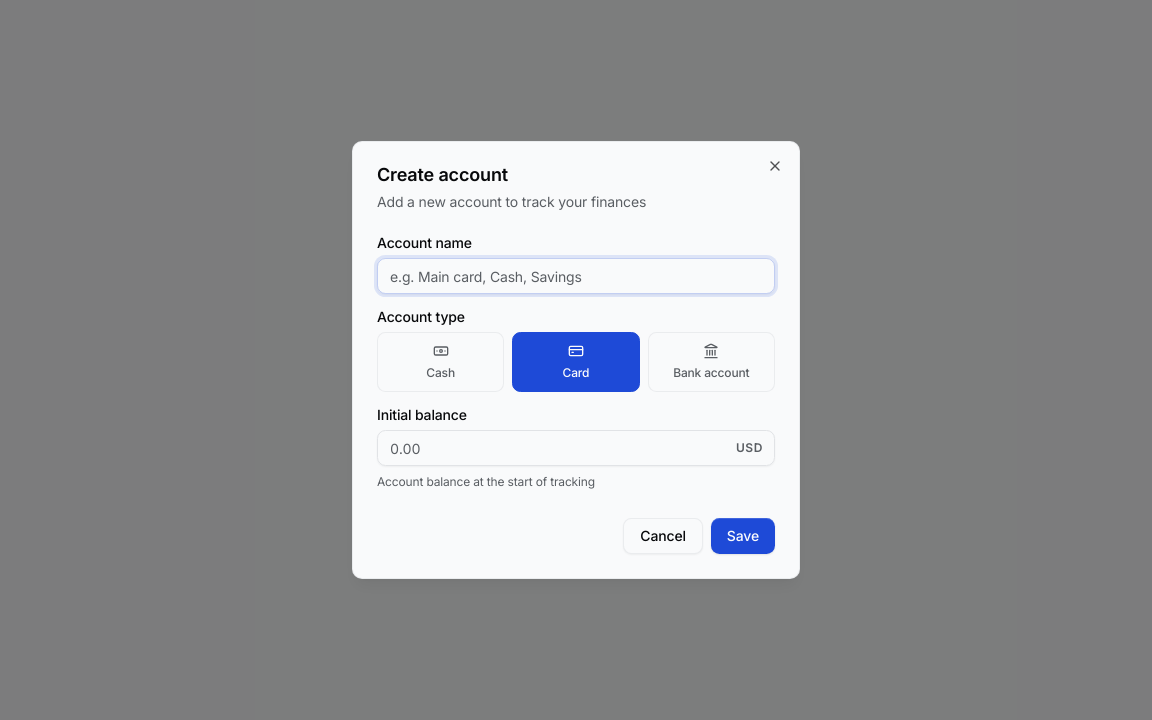
Test case: AccountForm › renders create mode with default fields and validates required name
Expected: the heading "Create account" is shown, [377,164,508,185]
// Try submitting without filling name
Step 1. Click the button with test id "account-form-submit" → (743, 536), box [711,518,775,554]
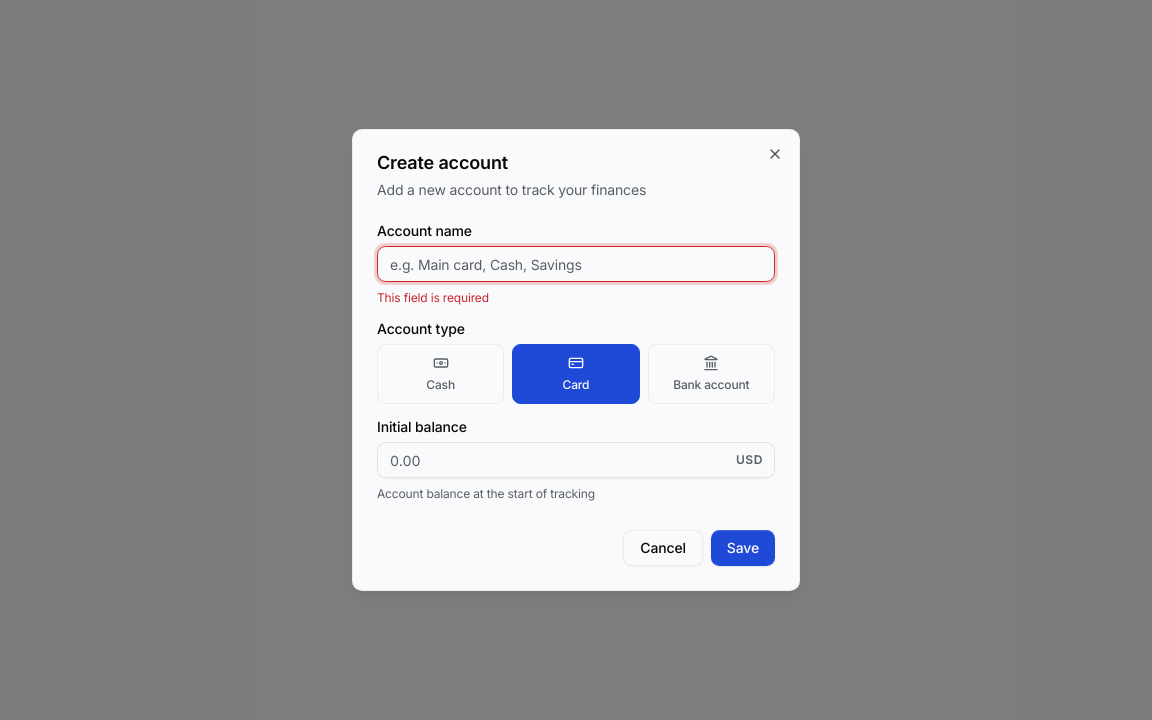
Expected: the text "This field is required" is shown, [377,290,489,305]
